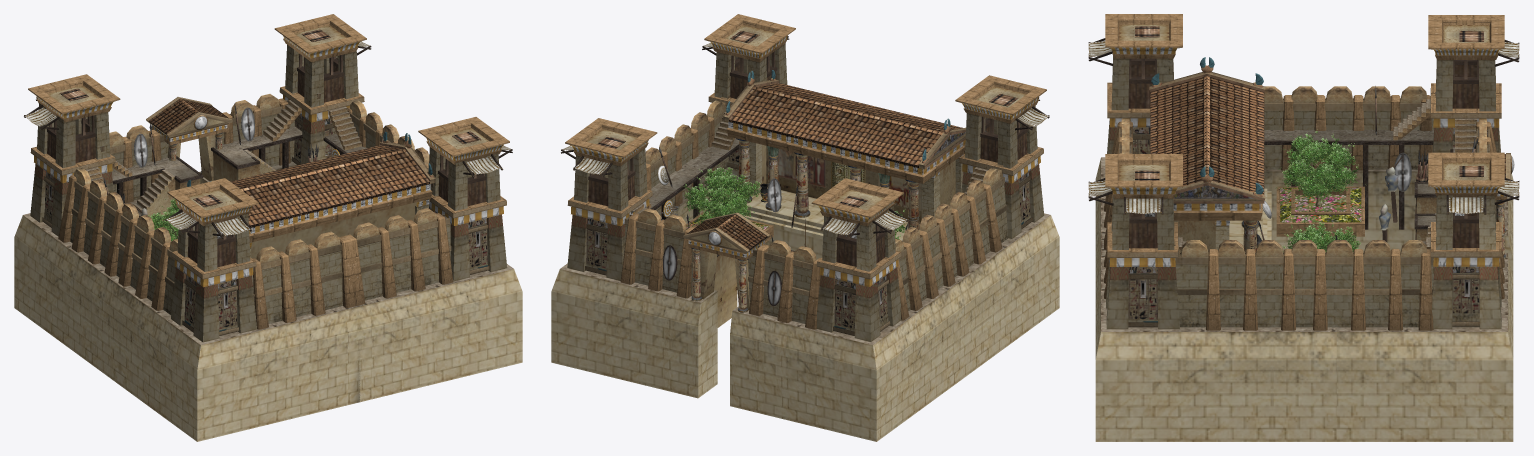
File: s_ptolemies_military_colony.glb
The picture shows the model from 3 angles, left to right: view 1: azimuth 30°, elevation 25°; view 2: azimuth 150°, elevation 25°; view 3: azimuth 270°, elevation 25°; orthographic projection. The views are drawn at different scales.
Parts seen in each view (by area): view 1: s_ptolemies_military_colony_part0, s_ptolemies_military_colony_part2, s_ptolemies_military_colony_part4; view 2: s_ptolemies_military_colony_part0, s_ptolemies_military_colony_part2, s_ptolemies_military_colony_part4; view 3: s_ptolemies_military_colony_part0, s_ptolemies_military_colony_part2, s_ptolemies_military_colony_part4, s_ptolemies_military_colony_part6, s_ptolemies_military_colony_part3.
Part boxes in pixels (<box>): s_ptolemies_military_colony_part0: <box>14,14,522,441</box>; s_ptolemies_military_colony_part2: <box>148,98,429,227</box>; s_ptolemies_military_colony_part4: <box>148,198,179,241</box>; s_ptolemies_military_colony_part0: <box>551,14,1059,441</box>; s_ptolemies_military_colony_part2: <box>687,83,962,250</box>; s_ptolemies_military_colony_part4: <box>678,164,910,239</box>; s_ptolemies_military_colony_part0: <box>1088,14,1519,441</box>; s_ptolemies_military_colony_part2: <box>1150,76,1505,195</box>; s_ptolemies_military_colony_part4: <box>1275,129,1366,252</box>; s_ptolemies_military_colony_part6: <box>1280,188,1361,222</box>; s_ptolemies_military_colony_part3: <box>1174,185,1254,198</box>.
Size of the model in its own units: 6.2 by 3.93 by 6.12.
8 materials, 8 textured.
